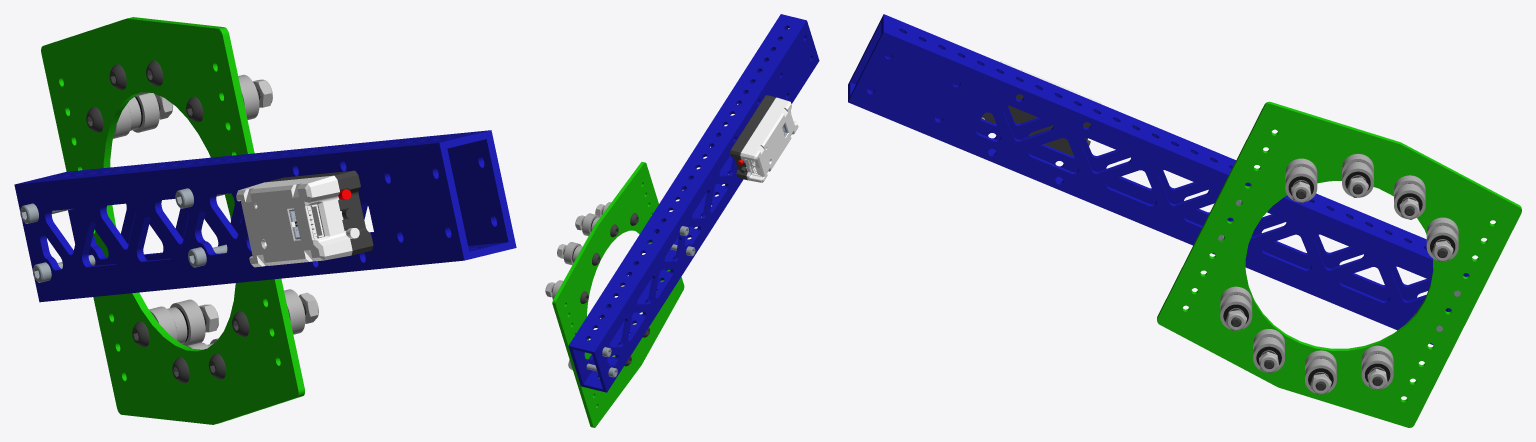
3 renders of one model, left to right at view 1: azimuth 30°, elevation 25°; view 2: azimuth 150°, elevation 25°; view 3: azimuth 270°, elevation 25°, orthographic. The views are drawn at different scales.
Visible parts, largest first — view 1: arm bar pocketed, Mounting Plate - Turret, SPARK MAX REV-11-2158 (20), WCP-0212_0_250_radial_bearing (×5), SPARK MAX REV-11-2158 (15); view 2: arm bar pocketed, Mounting Plate - Turret, SPARK MAX REV-11-2158 (20), SPARK MAX REV-11-2158 (15); view 3: arm bar pocketed, Mounting Plate - Turret, SPARK MAX REV-11-2158 (15).
Boxes of the visible parts, bbox=[...] form: arm bar pocketed: bbox=[14, 130, 516, 302]; Mounting Plate - Turret: bbox=[41, 17, 304, 424]; SPARK MAX REV-11-2158 (20): bbox=[236, 175, 352, 267]; WCP-0212_0_250_radial_bearing (×5): bbox=[133, 74, 305, 345]; SPARK MAX REV-11-2158 (15): bbox=[265, 170, 373, 255]; arm bar pocketed: bbox=[568, 14, 819, 392]; Mounting Plate - Turret: bbox=[552, 162, 684, 427]; SPARK MAX REV-11-2158 (20): bbox=[740, 97, 798, 182]; SPARK MAX REV-11-2158 (15): bbox=[730, 95, 776, 180]; arm bar pocketed: bbox=[848, 14, 1469, 345]; Mounting Plate - Turret: bbox=[1157, 101, 1521, 427]; SPARK MAX REV-11-2158 (15): bbox=[982, 94, 1090, 156].
Size of the model in its own units: 0.0853 by 0.2583 by 0.4006.
